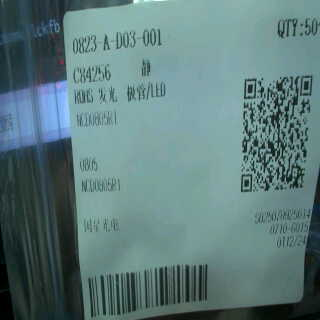LED: (97, 79, 173, 108)
